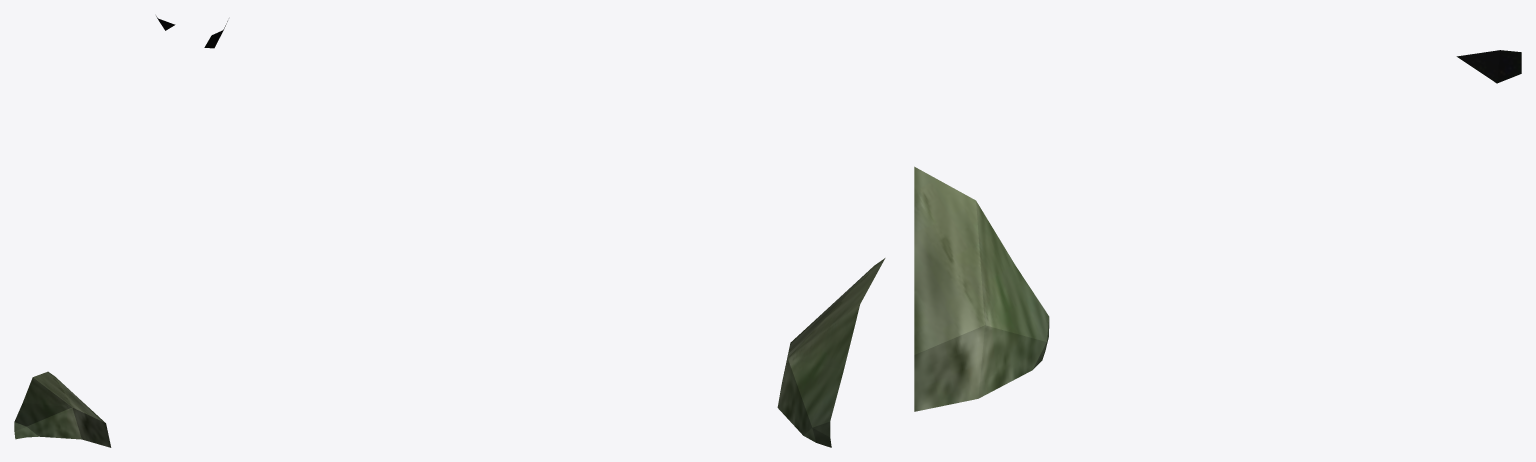
The picture shows the model from 3 angles, left to right: view 1: azimuth 30°, elevation 25°; view 2: azimuth 150°, elevation 25°; view 3: azimuth 270°, elevation 25°; orthographic projection. The views are drawn at different scales.
Bounding box in the file's own units: 2.95 × 2.95 × 2.95.
Materials: 1 (1 with a texture image).
